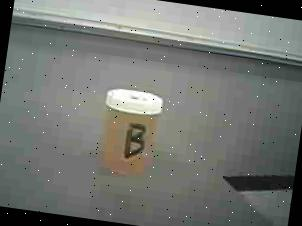Bottle B: (92, 84, 168, 182)
